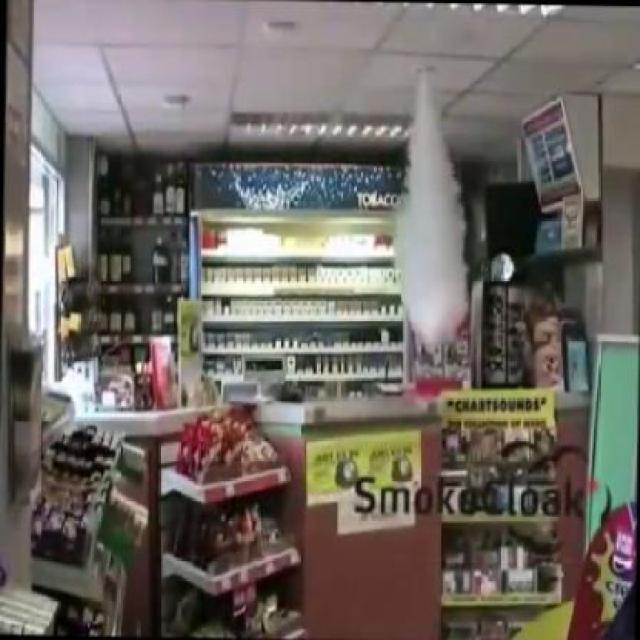fire: (391, 64, 474, 366)
